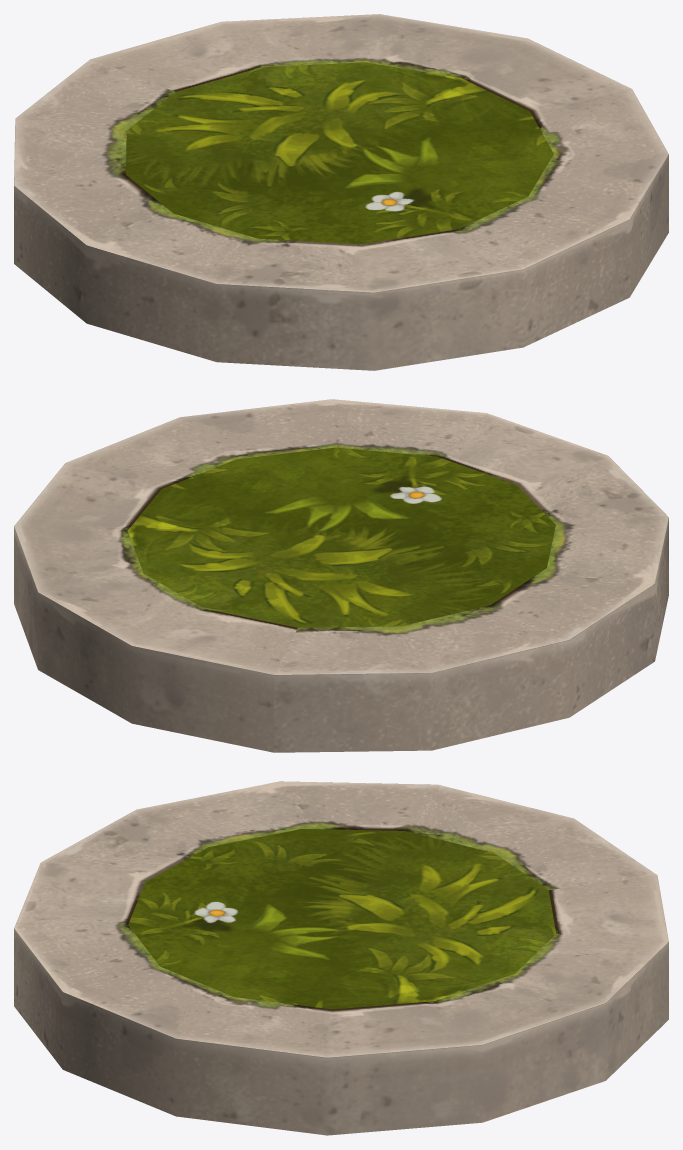
File: TRF0110019.fbx
The picture shows the model from 3 angles, top to bottom: view 1: azimuth 30°, elevation 25°; view 2: azimuth 150°, elevation 25°; view 3: azimuth 270°, elevation 25°; orthographic projection.
Visible parts, largest first — view 1: smTRF0110019; view 2: smTRF0110019; view 3: smTRF0110019.
Part boxes in pixels (x1,y1,x2,y2): smTRF0110019: [14, 14, 668, 370]; smTRF0110019: [14, 399, 668, 752]; smTRF0110019: [14, 781, 668, 1135].
Size of the model in its own units: 114 by 15 by 115.
1 material, 1 textured.
